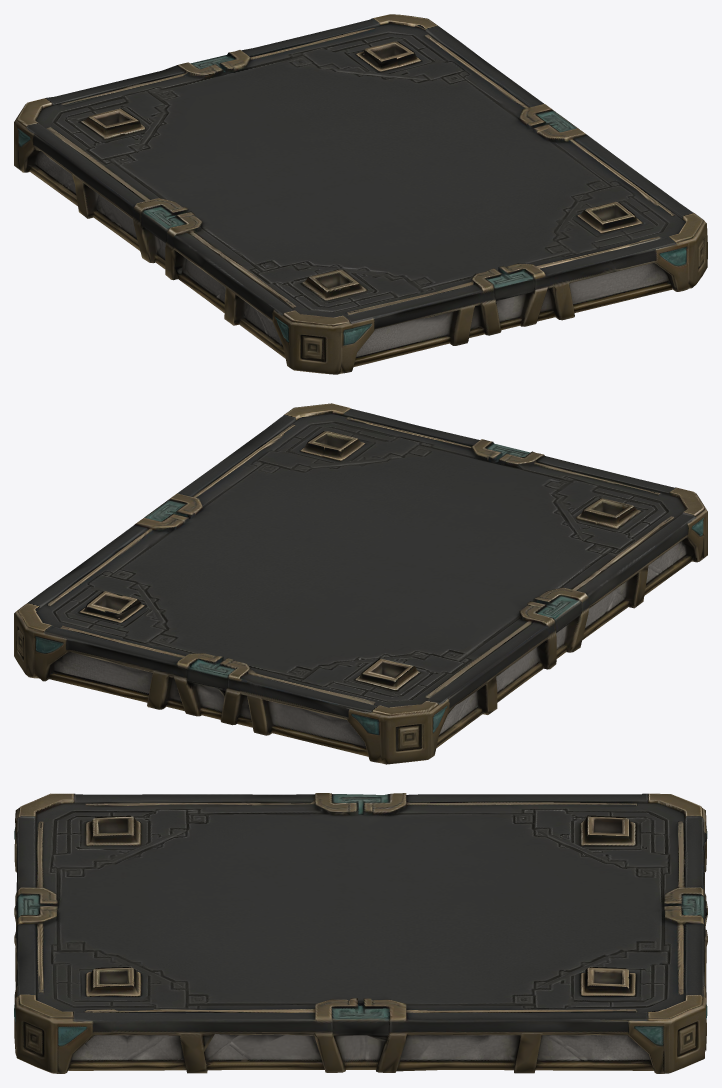
File: stone_platform.glb
3 views of the same model, one above another, from view 1: azimuth 30°, elevation 25°; view 2: azimuth 150°, elevation 25°; view 3: azimuth 270°, elevation 25° (orthographic). The views are drawn at different scales.
Visible parts, largest first — view 1: tripo_node_b987ea85-9e79-4455-93cc-cc93087ec06b; view 2: tripo_node_b987ea85-9e79-4455-93cc-cc93087ec06b; view 3: tripo_node_b987ea85-9e79-4455-93cc-cc93087ec06b.
Part boxes in pixels (bbox=[...]): tripo_node_b987ea85-9e79-4455-93cc-cc93087ec06b: bbox=[14, 14, 707, 374]; tripo_node_b987ea85-9e79-4455-93cc-cc93087ec06b: bbox=[14, 403, 707, 764]; tripo_node_b987ea85-9e79-4455-93cc-cc93087ec06b: bbox=[14, 793, 707, 1073].
Bounding box in the file's own units: 0.7635 × 0.095 × 0.9797.
1 material, 1 textured.
